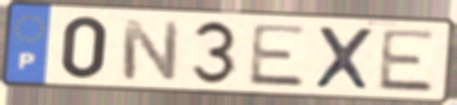0: (58, 15, 111, 81)
3: (186, 18, 242, 89)
E: (375, 27, 440, 95), (246, 22, 310, 90)
N: (119, 17, 182, 83)
X: (312, 23, 377, 93)
